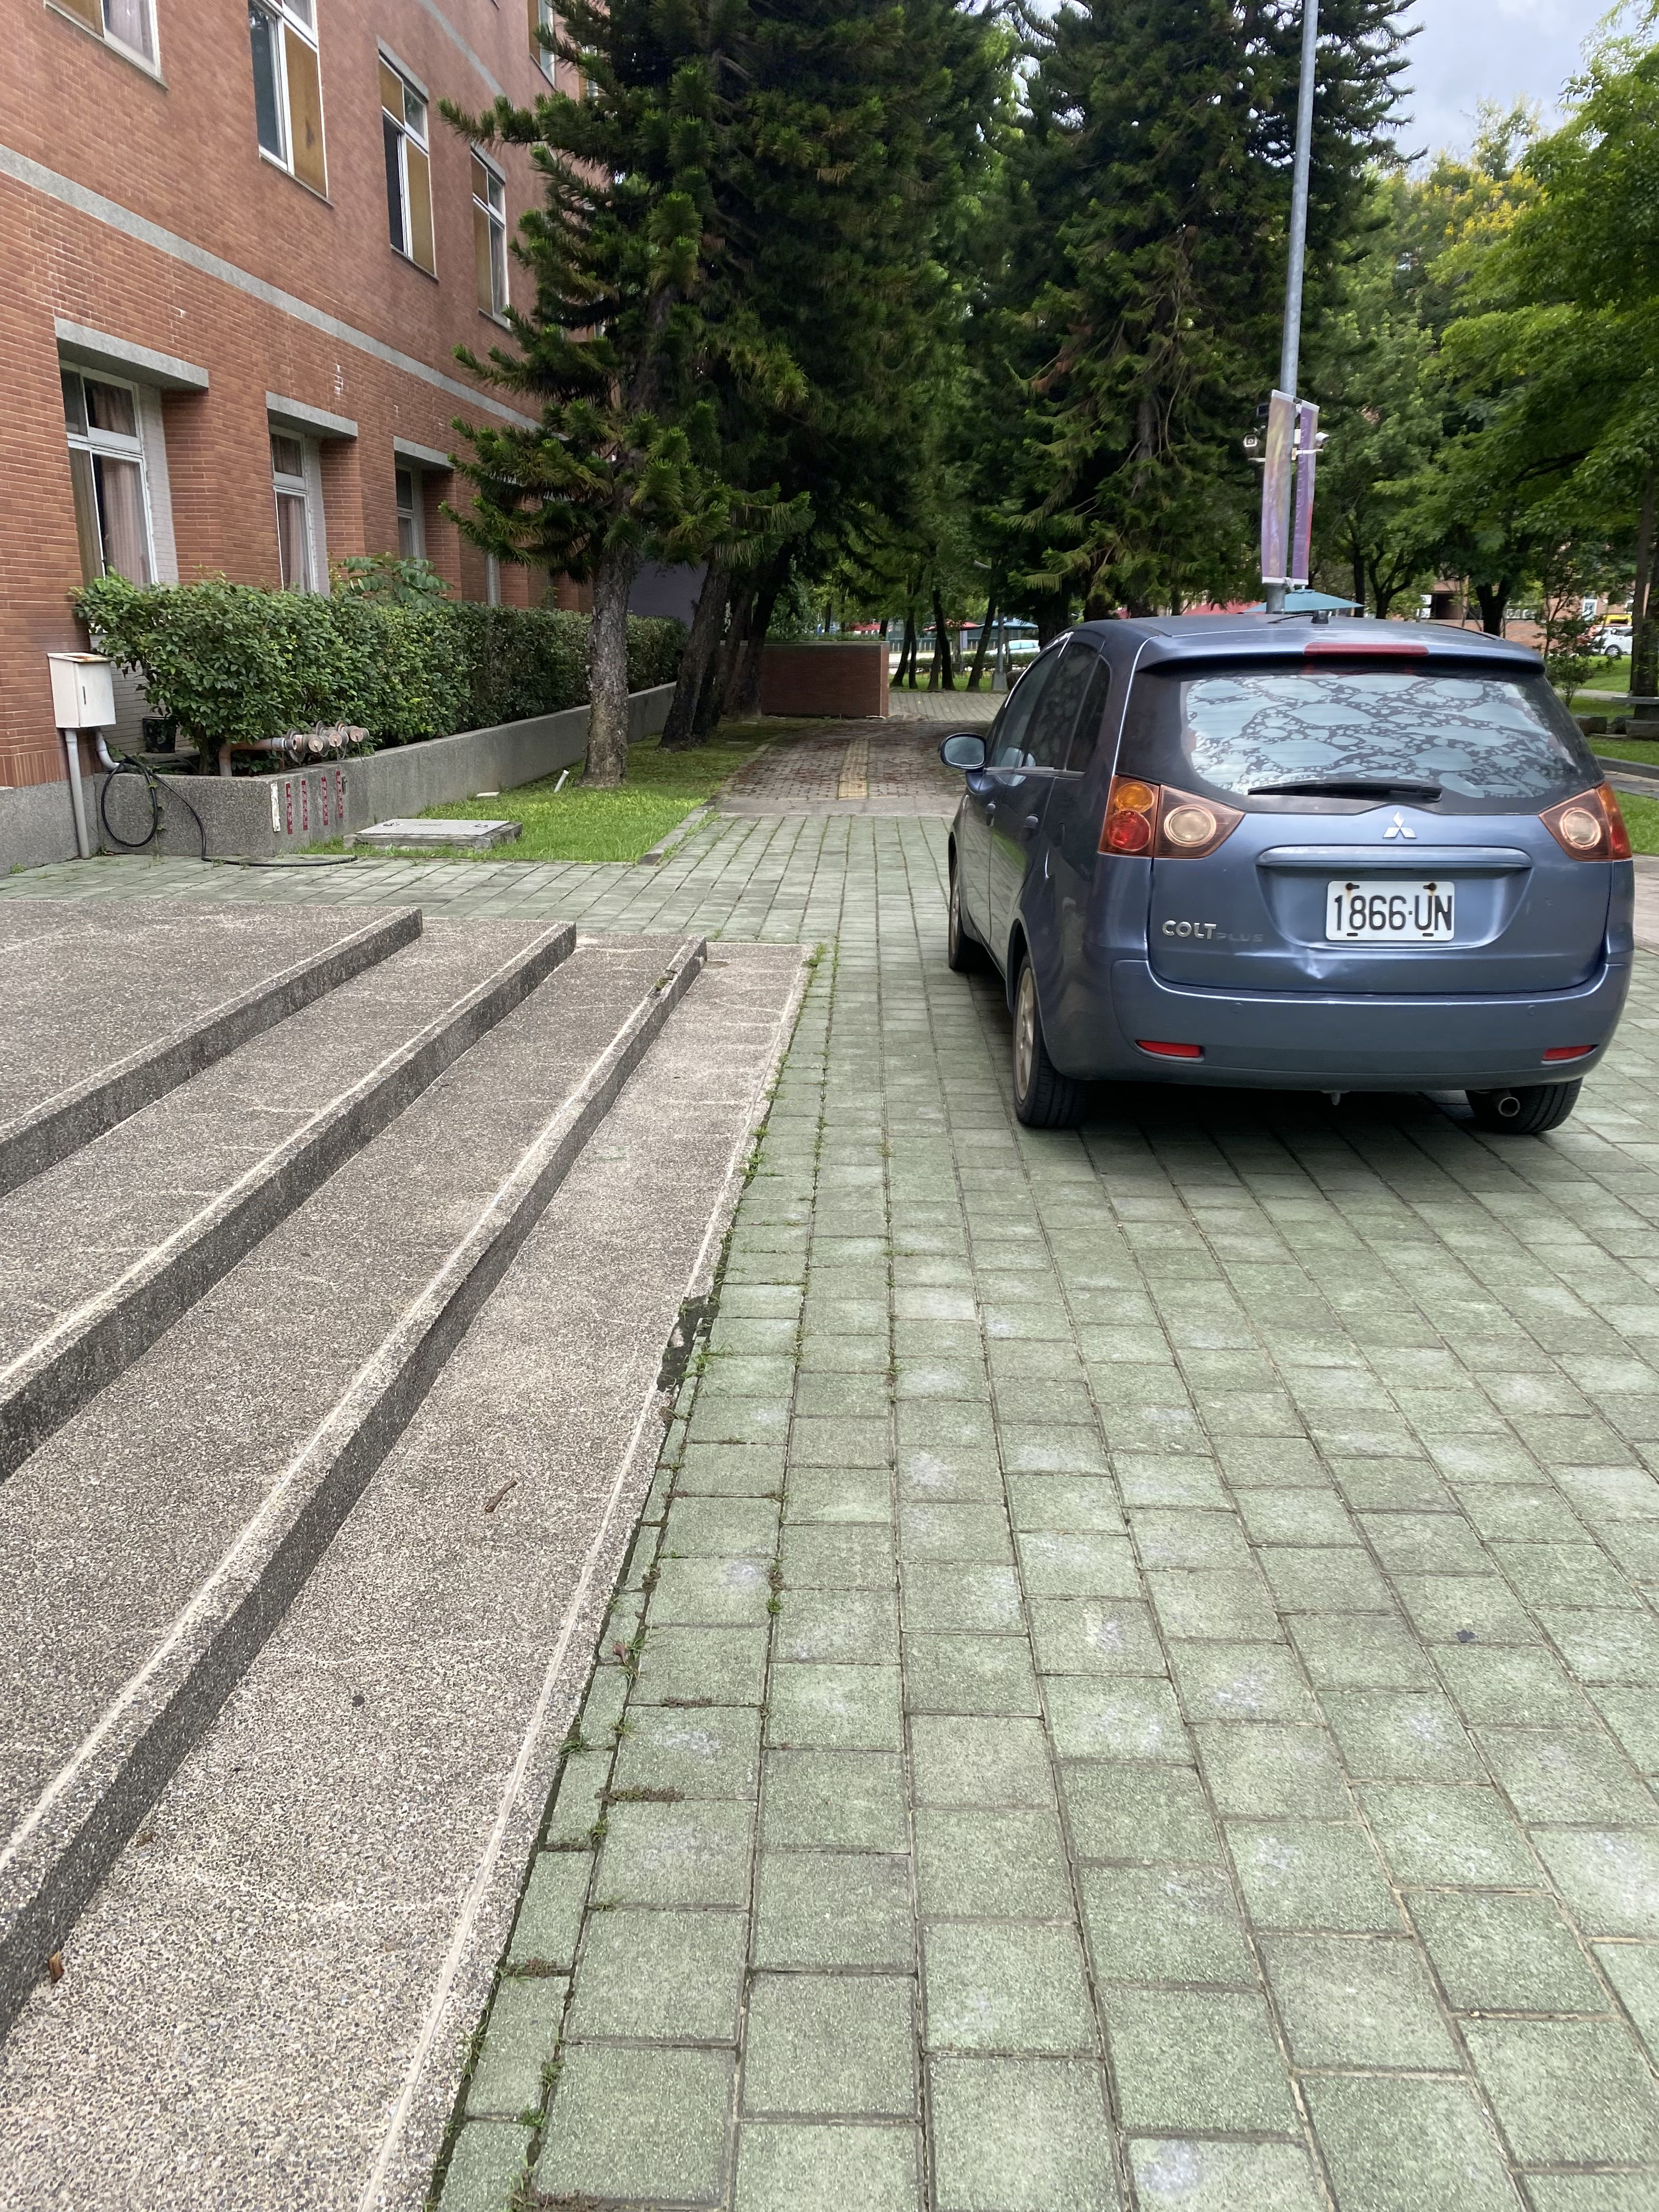sidewalk: (594, 707, 1659, 2212)
